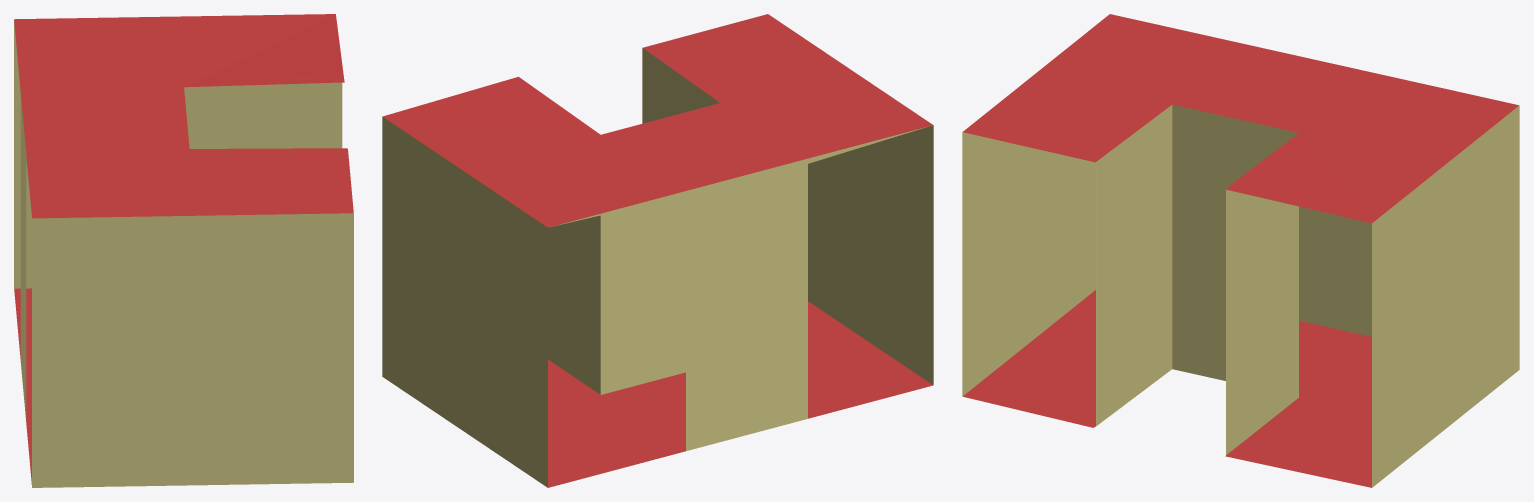
3 views of the same model, side by side, from view 1: azimuth 30°, elevation 25°; view 2: azimuth 150°, elevation 25°; view 3: azimuth 270°, elevation 25° (orthographic). The views are drawn at different scales.
Parts seen in each view (by area): view 1: group_4, group_3, group_5; view 2: group_4, group_3, group_5; view 3: group_4, group_3, group_5.
Boxes of the visible parts, x1,y1,x2,y2 form: group_4: (14, 19, 353, 487); group_3: (14, 14, 353, 218); group_5: (14, 288, 31, 484); group_4: (382, 48, 933, 487); group_3: (383, 14, 933, 227); group_5: (548, 301, 932, 487); group_4: (962, 104, 1519, 487); group_3: (963, 14, 1518, 223); group_5: (963, 290, 1371, 487).
Size of the model in its own units: 15.39 by 17.3 by 9.15.
